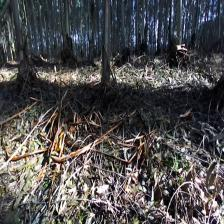trunk: (11, 6, 30, 82), (100, 5, 112, 87)
